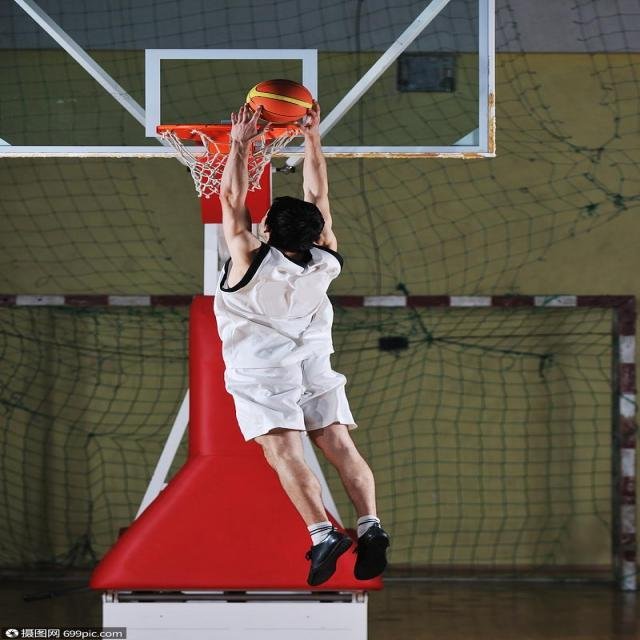rim: (244, 78, 310, 122)
